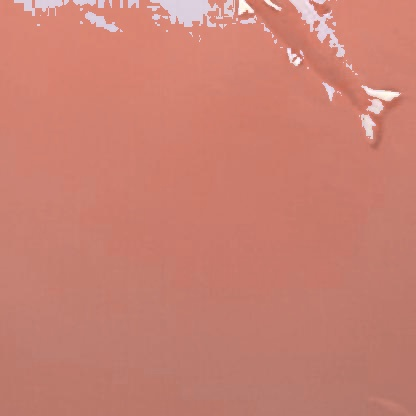salmon: (235, 0, 410, 152)
